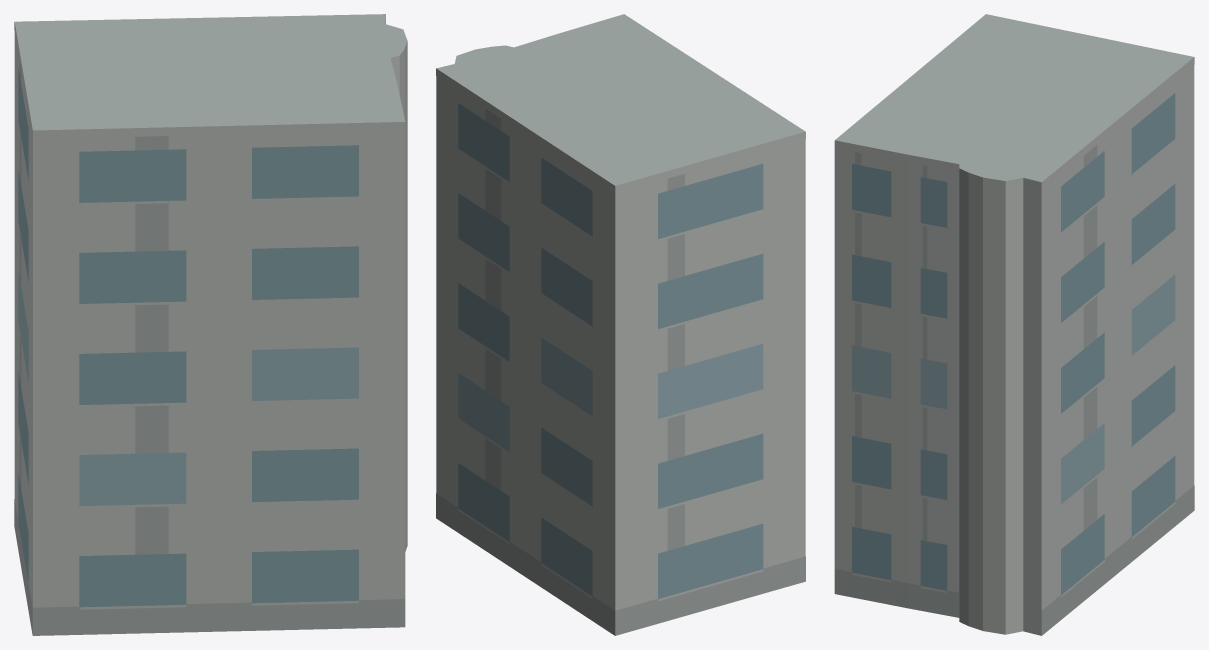
Rendered from survey-upis-32727158.glb.
3 views of the same model, side by side, from view 1: azimuth 30°, elevation 25°; view 2: azimuth 150°, elevation 25°; view 3: azimuth 270°, elevation 25° (orthographic). The views are drawn at different scales.
Parts seen in each view (by area): view 1: survey-upis-32727158.tmp; view 2: survey-upis-32727158.tmp; view 3: survey-upis-32727158.tmp.
Boxes of the visible parts, x1,y1,x2,y2 form: survey-upis-32727158.tmp: (14,14,407,635); survey-upis-32727158.tmp: (436,14,805,635); survey-upis-32727158.tmp: (834,14,1194,635).
Bounding box in the file's own units: 11.3 × 14.2 × 10.21.
